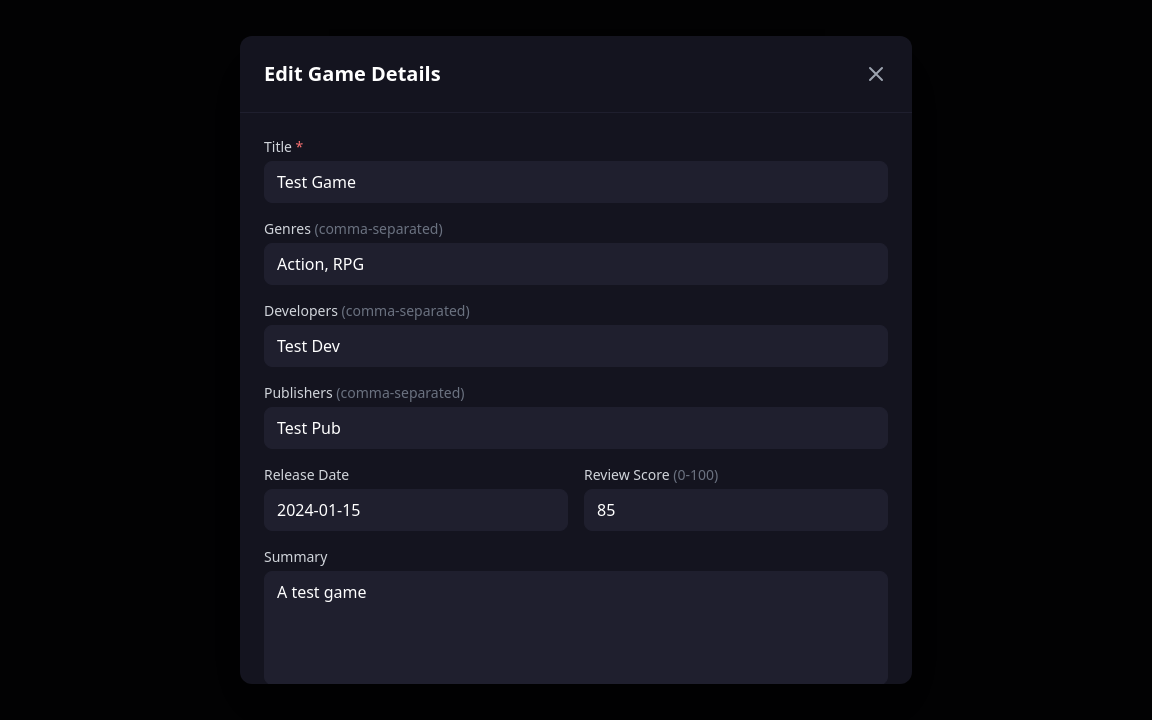
it: EditModal › shows error message when title is empty
Clear the field showing "Test Game" below "Title" at point(576, 182), box [264,161,888,203]
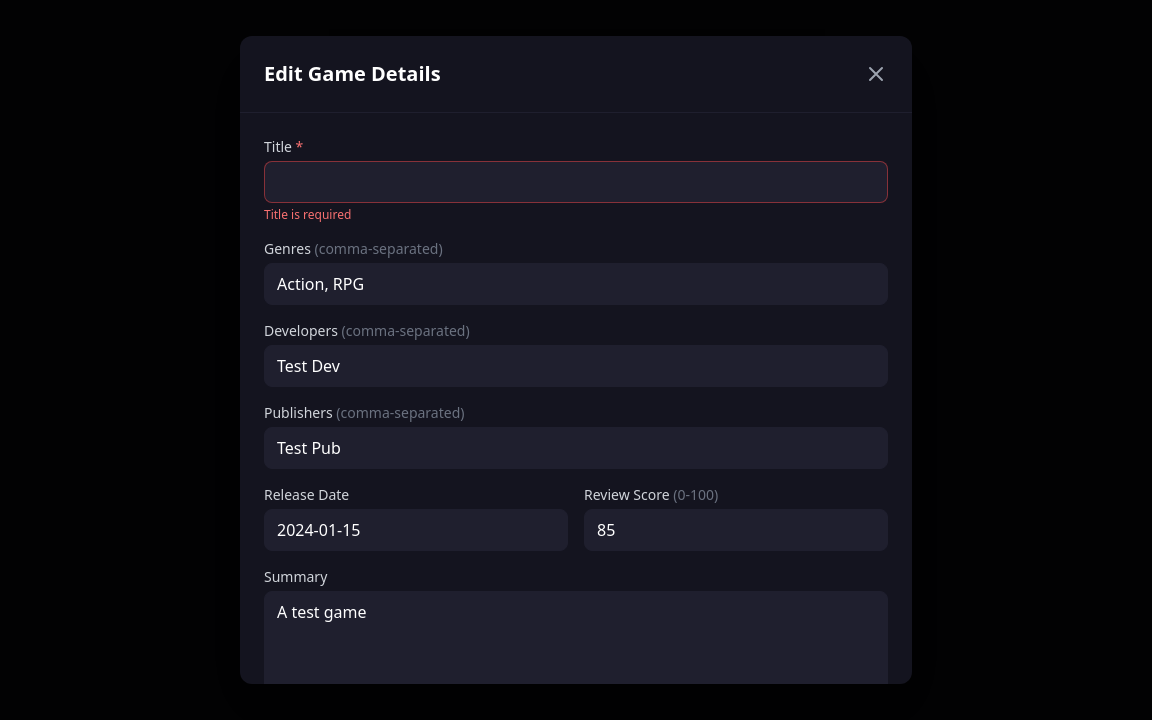
Result: the text "Title is required" is shown at [264,206,351,223]
